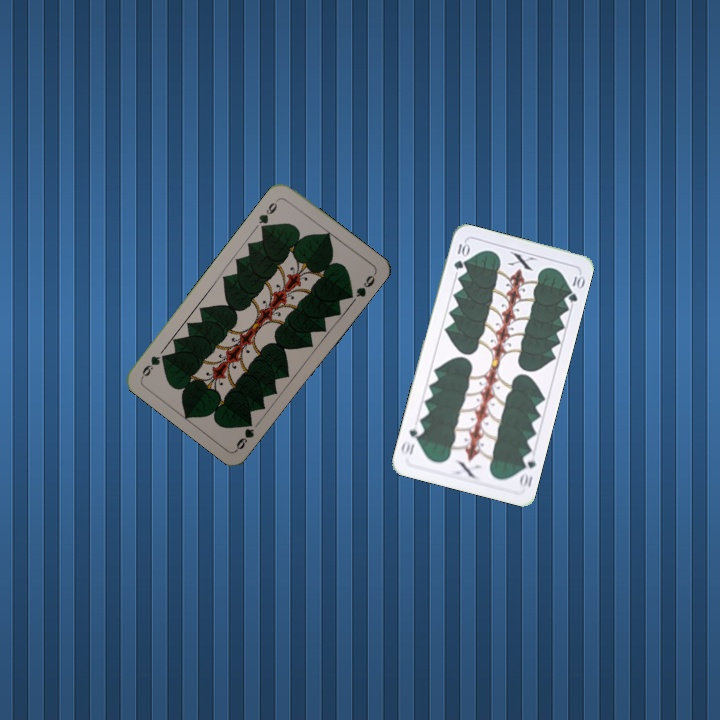G10: (515, 449, 538, 491), (450, 238, 471, 272)
G9: (255, 195, 281, 233), (232, 417, 257, 453)
